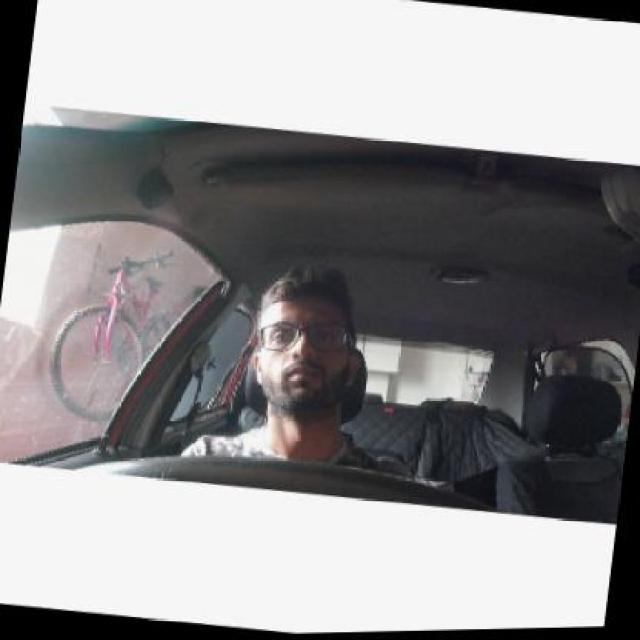person: (250, 260, 372, 436)
